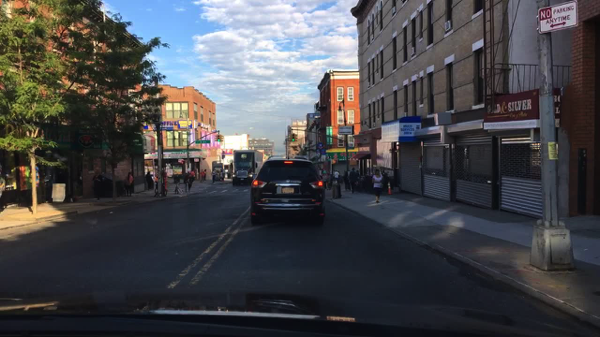bike: (154, 178, 167, 198), (173, 183, 183, 194)
car: (249, 154, 327, 224)
person: (93, 168, 104, 200), (372, 168, 382, 203), (124, 172, 134, 197), (348, 167, 357, 194), (144, 170, 154, 191), (184, 170, 194, 191), (342, 168, 349, 190), (383, 171, 390, 190), (324, 173, 330, 191), (199, 170, 205, 184), (191, 169, 196, 183), (334, 169, 339, 183), (318, 167, 323, 177)
traffic light: (287, 132, 291, 142), (216, 135, 220, 143), (220, 135, 224, 143), (291, 133, 294, 143), (214, 132, 217, 142), (295, 135, 298, 143)
traffic sign: (337, 126, 352, 135), (194, 140, 211, 144), (317, 143, 327, 149), (319, 149, 327, 155)
truck: (231, 150, 265, 186), (211, 160, 225, 182)
